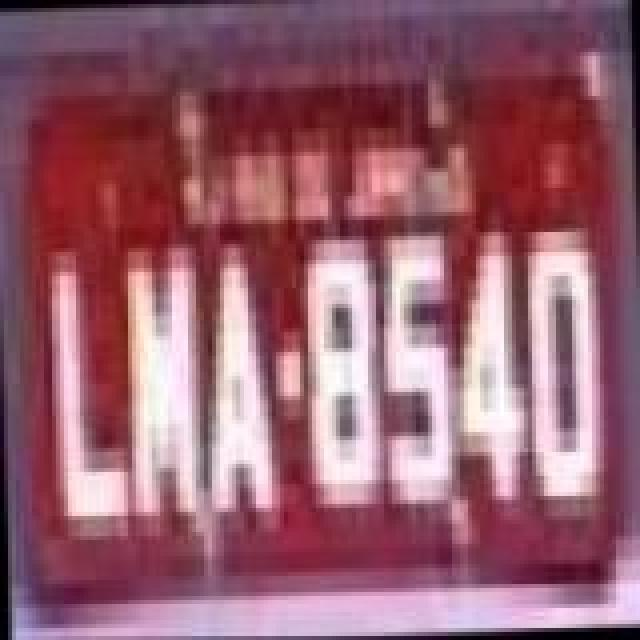4: (448, 232, 528, 512)
5: (376, 232, 456, 512)
8: (304, 236, 388, 520)
A: (202, 250, 282, 526)
L: (48, 260, 132, 532)
M: (120, 246, 204, 526)
O: (522, 228, 610, 516)
